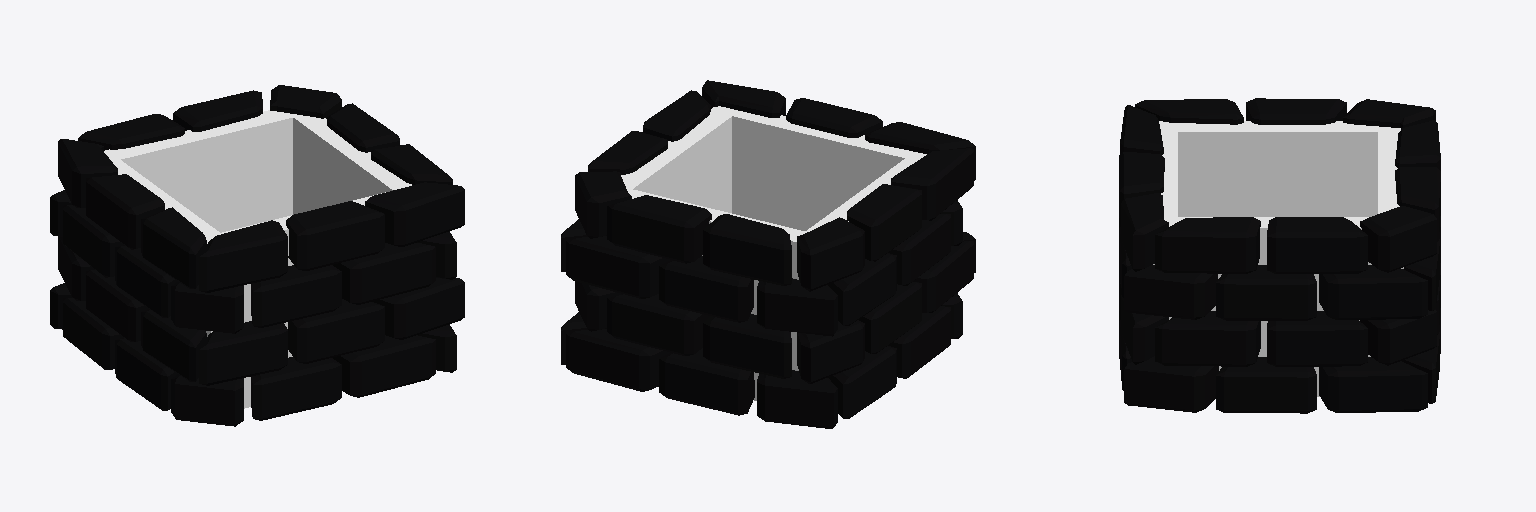
File: CastinBasin2.obj
3 renders of one model, left to right at view 1: azimuth 30°, elevation 25°; view 2: azimuth 150°, elevation 25°; view 3: azimuth 270°, elevation 25°, orthographic.
Visible parts, largest first — view 1: Cube.001, Cube; view 2: Cube.001, Cube; view 3: Cube.001, Cube.
Part boxes in pixels (bbox=[...]): Cube.001: bbox=[50, 85, 464, 426]; Cube: bbox=[104, 110, 411, 408]; Cube.001: bbox=[561, 80, 975, 428]; Cube: bbox=[621, 106, 926, 400]; Cube.001: bbox=[1119, 98, 1440, 413]; Cube: bbox=[1153, 121, 1403, 396].
Bounding box in the file's own units: 5.17 × 3.17 × 5.11.